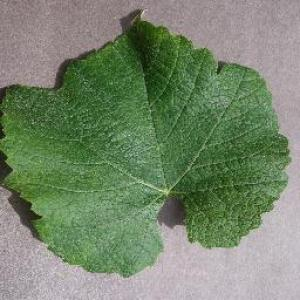Folha: (0, 7, 292, 278)
